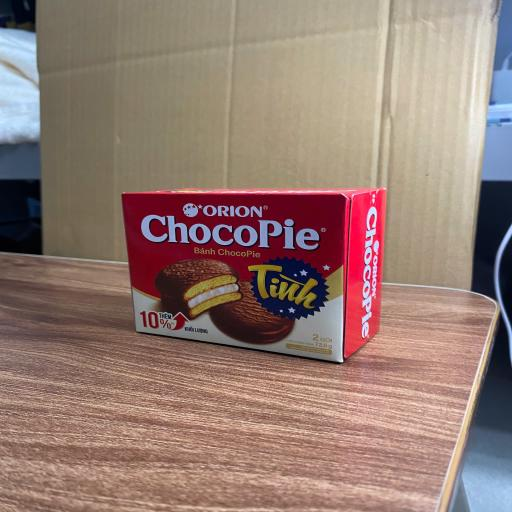chocopie: (123, 188, 383, 362)
